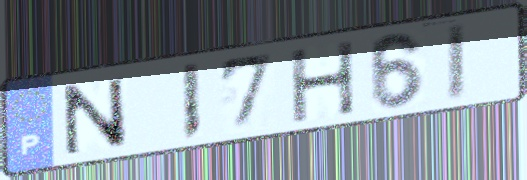6: (367, 30, 430, 112)
7: (217, 50, 278, 134)
H: (286, 37, 359, 126)
I: (443, 19, 469, 105), (179, 60, 203, 144)
N: (59, 75, 132, 158)
